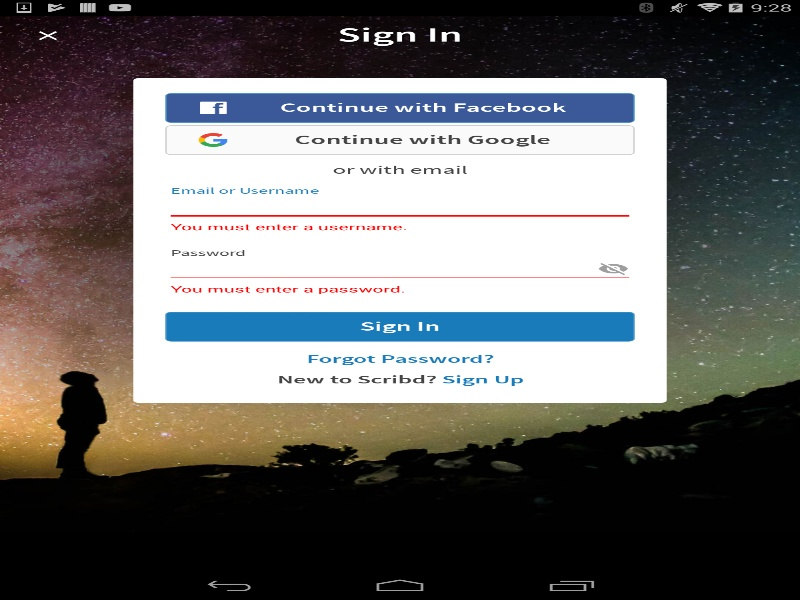Button: (165, 125, 634, 155), (165, 311, 634, 341), (165, 93, 634, 122), (276, 372, 523, 387), (306, 351, 494, 367), (10, 15, 85, 55), (592, 255, 634, 283)
Input: (165, 192, 634, 220), (165, 255, 634, 283)
